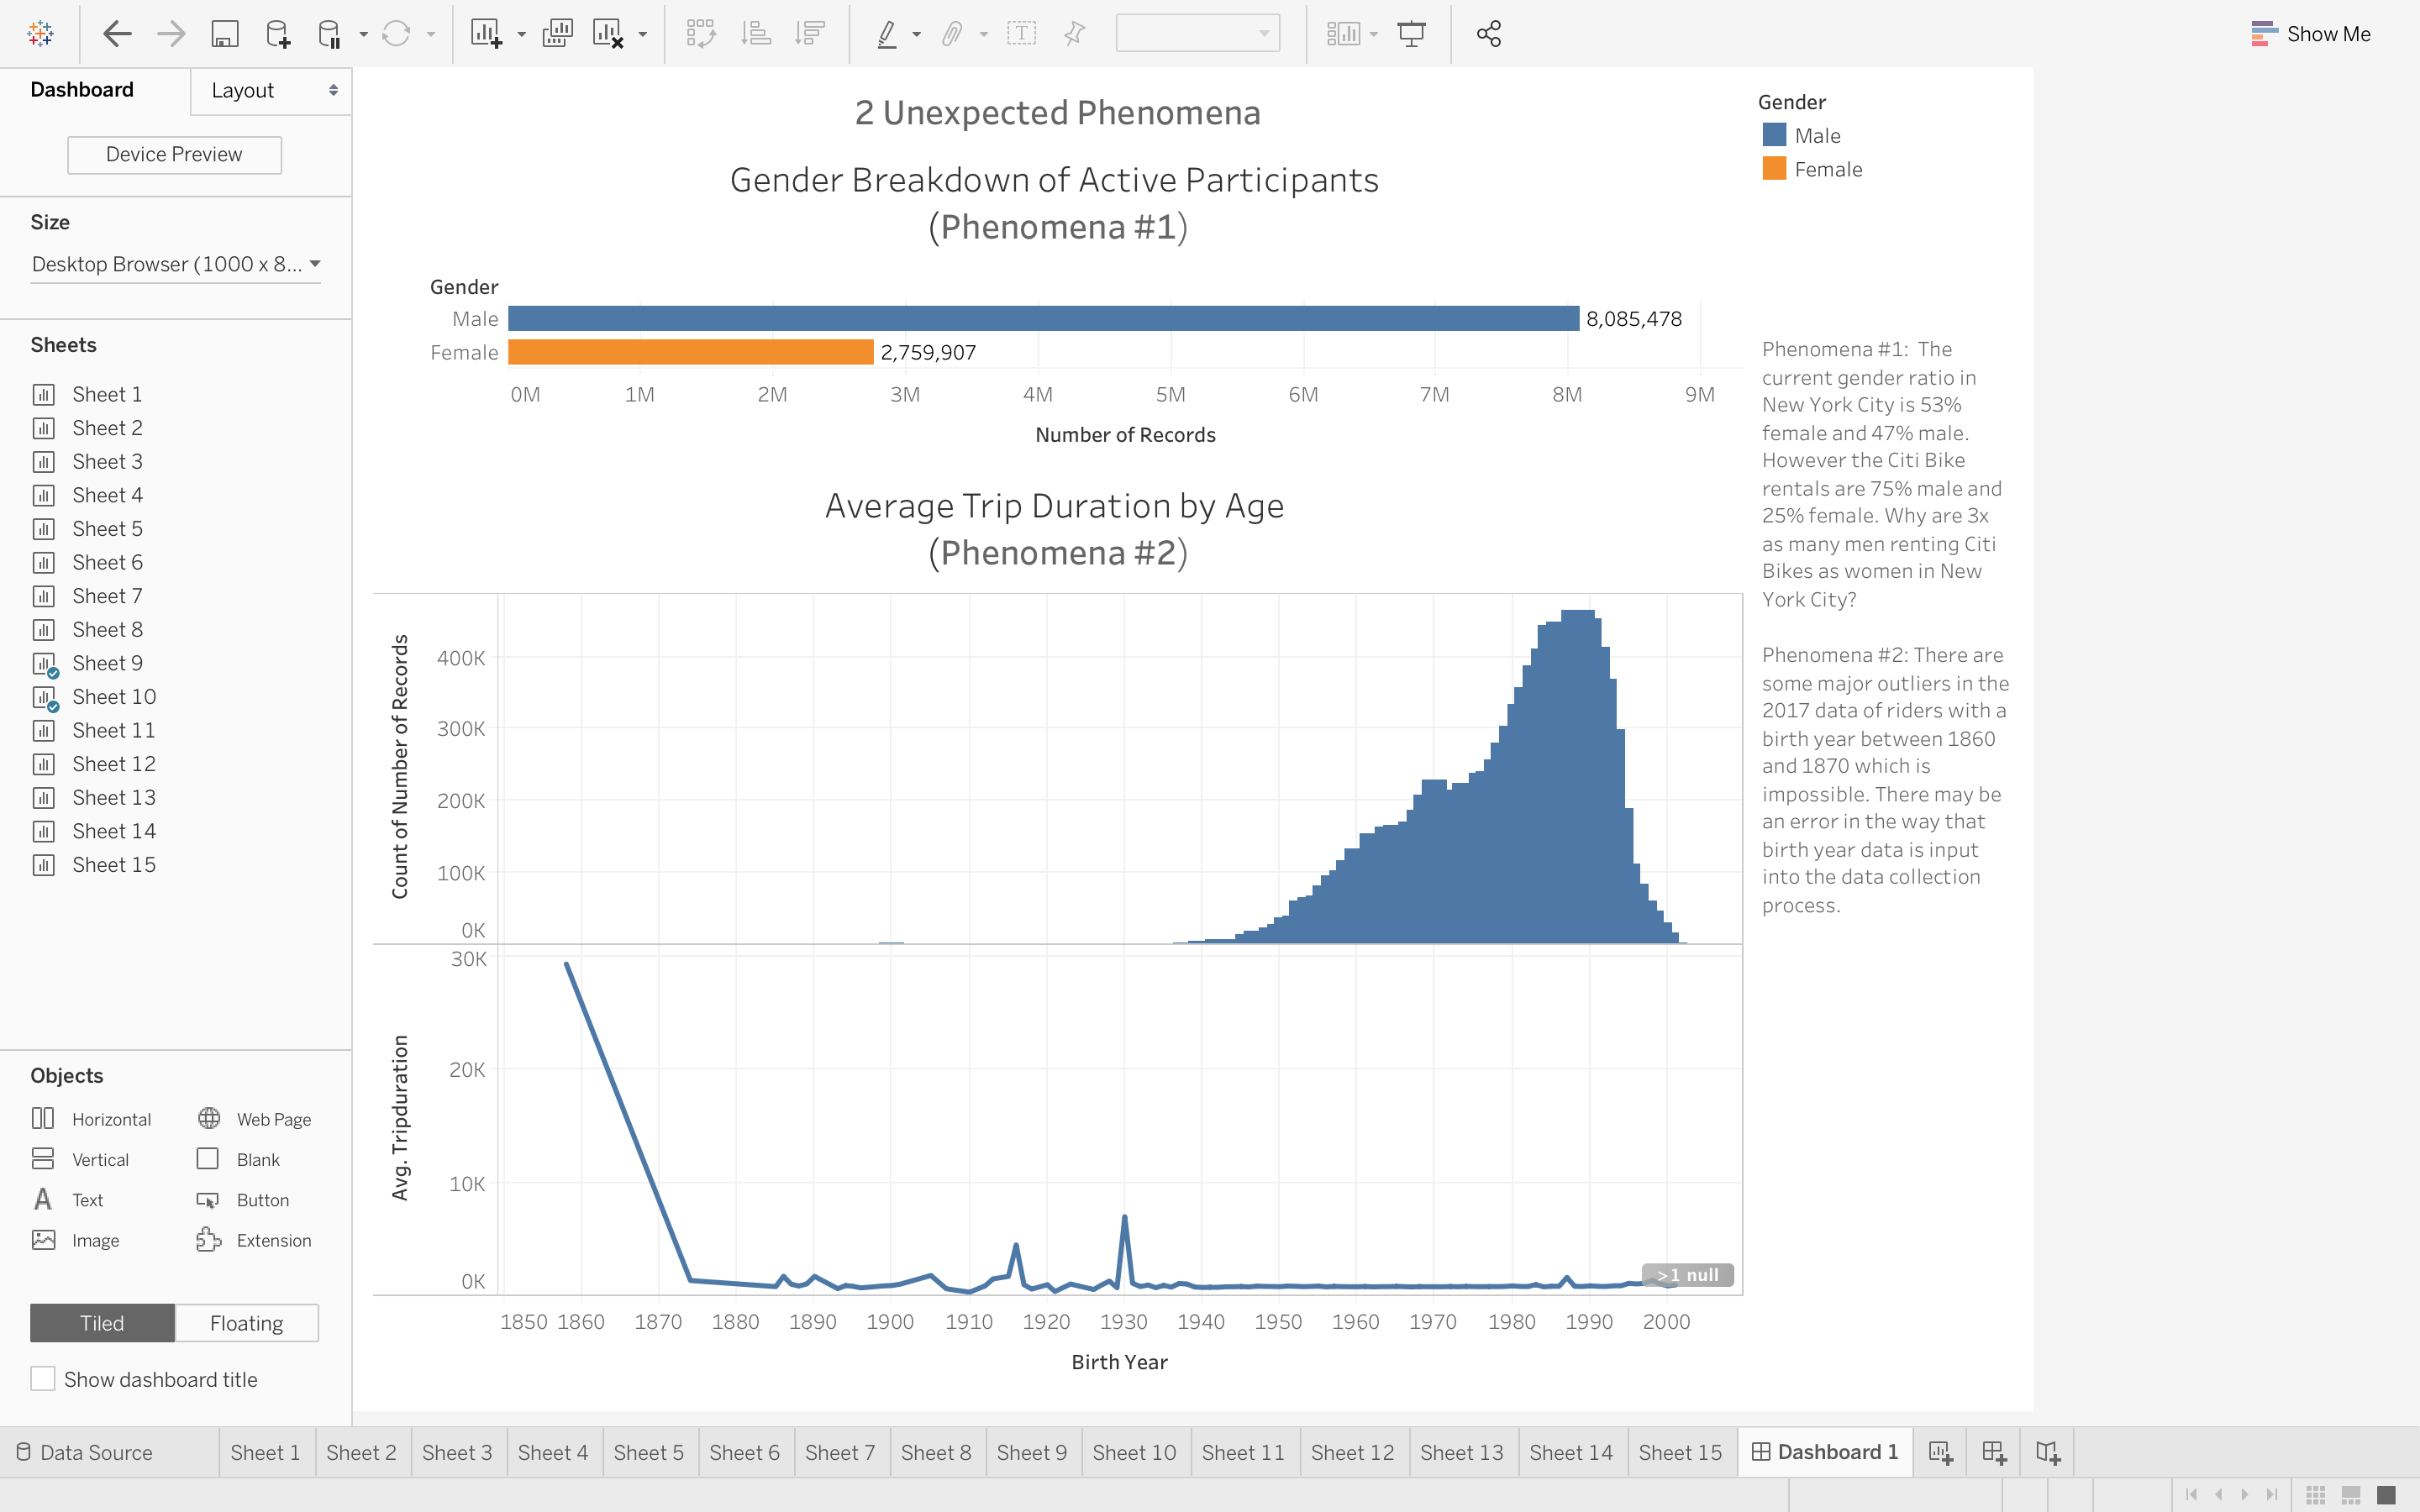

This screenshot's page, from the dashboard's own definition file:
{"tool":"tableau","page":{"name":"Dashboard 1","canvas":[1000,800],"ordinal":0},"visuals":[{"type":"text","box":[8,8,824,36]},{"type":"legend","title":"Sheet 9","param":"[federated.0nol3ks1dgi1271b4hfef1el0j15].[none:gender:ok]","box":[832,8,160,66]},{"type":"worksheet","title":"Sheet 9","mark":"Automatic","rows":["gender"],"cols":["Number of Records"],"box":[8,44,824,194]},{"type":"text","box":[832,74,160,527]},{"type":"worksheet","title":"Sheet 10","mark":"Bar","rows":["Number of Records","tripduration"],"cols":["birth year"],"box":[8,238,824,554]}]}

Visuals, with their boxes on the page's 1000x800 design canvas (x1, y1, x2, y2). These are canvas units, not pixel positions in the 2420x1512 screenshot, which may show the page scaled, cropped or inside an application window:
text: [8, 8, 832, 44]
"Sheet 9" legend: [832, 8, 992, 74]
"Sheet 9" worksheet: [8, 44, 832, 238]
text: [832, 74, 992, 601]
"Sheet 10" worksheet (Bar marks): [8, 238, 832, 792]
